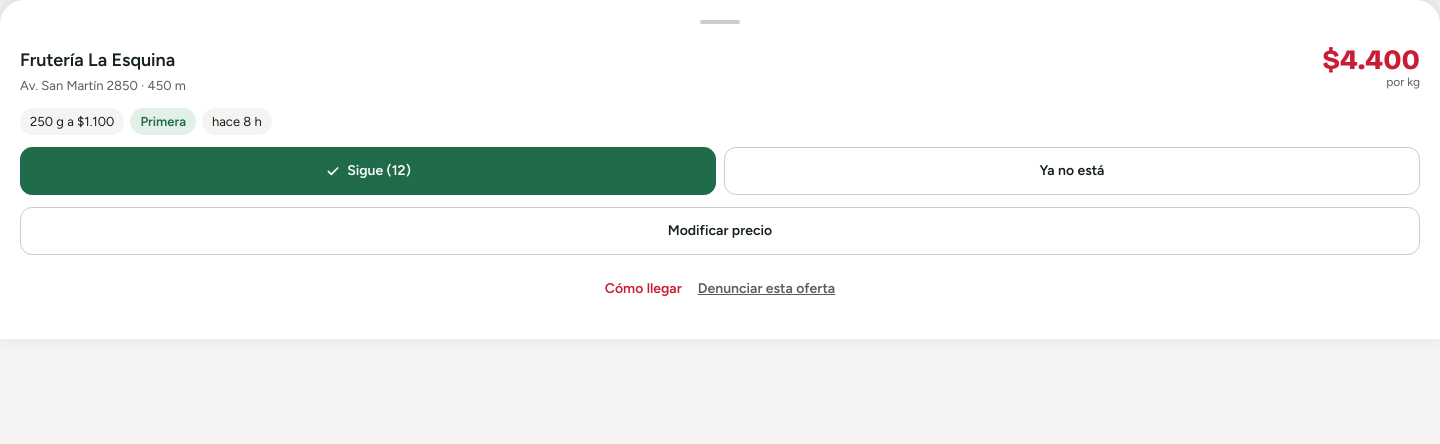
Test: OfferSheet › registra el voto, actualiza el contador y deshabilita los botones (E7)
The width and height of the screenshot is (1440, 444).
What coordinates should you click on to do the following:
click the button "Sigue (12)"
I would click on:
 (368, 171)
Its box is [20,147,716,195].
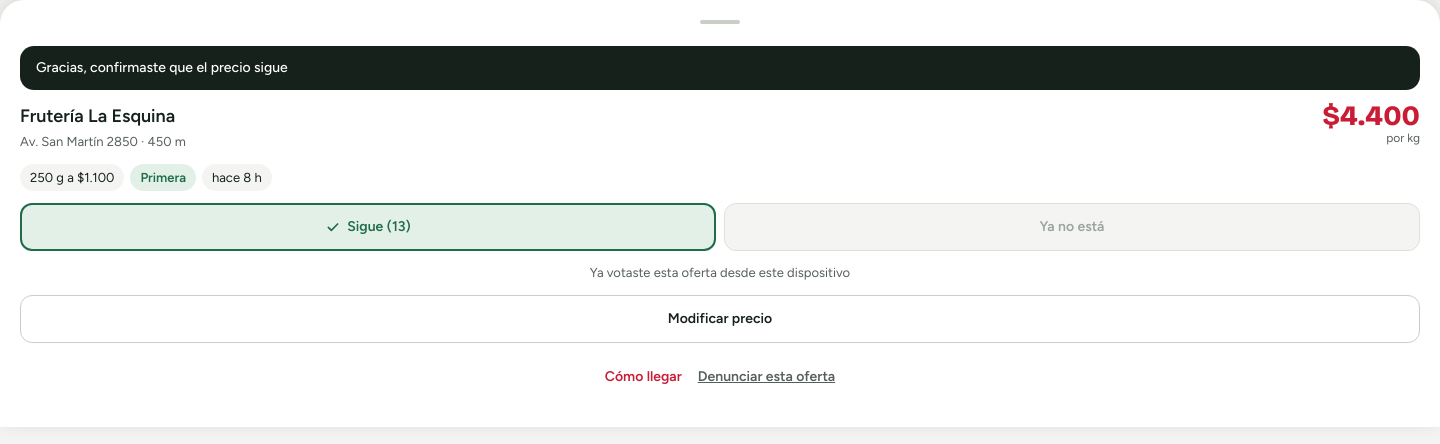
Now the text "Gracias, confirmaste que el precio sigue" is shown, box [20,46,1420,90]
Now the button "Sigue (13)" is disabled, box [20,203,716,251]
Now the button "Ya no está" is disabled, box [724,203,1420,251]
